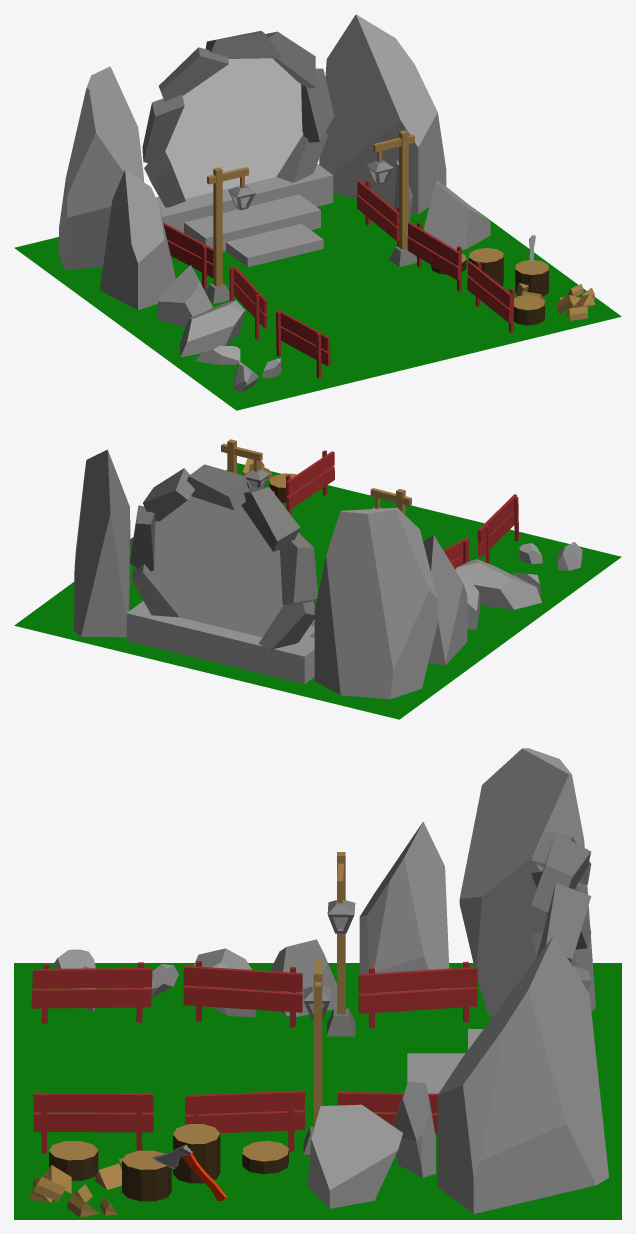
The model's file is Scene_Color_WeilIchEinMädchenBin_SuperNice.fbx.
The picture shows the model from 3 angles, top to bottom: view 1: azimuth 30°, elevation 25°; view 2: azimuth 150°, elevation 25°; view 3: azimuth 270°, elevation 25°; orthographic projection. The views are drawn at different scales.
Parts seen in each view (by area): view 1: Ground, Cube.005, Circle, Cube.004, Fence, Cube.013, 2MiddleStair, 1BigStair, Cube.008, 3LittleStair, Cube.007, Cube.006 (+13 smaller); view 2: Ground, Cube.004, Circle, Cube.005, 1BigStair, Fence, Cube.013, Cube.007, Cube.015, Cube.016, Cube.014, Cube.017 (+9 smaller); view 3: Ground, Cube.005, Fence, Cube.004, Cube.013, Cube.008, Cube.012, Cube.014, Cube.003, HackBaum, HackBaum2, Cube.006 (+11 smaller).
Part boxes in pixels (bbox=[...]): Ground: bbox=[14, 193, 621, 410]; Cube.005: bbox=[319, 14, 446, 214]; Circle: bbox=[165, 58, 303, 198]; Cube.004: bbox=[58, 66, 143, 270]; Fence: bbox=[163, 180, 514, 378]; Cube.013: bbox=[100, 169, 175, 310]; 2MiddleStair: bbox=[184, 194, 320, 251]; 1BigStair: bbox=[156, 164, 333, 232]; Cube.008: bbox=[423, 180, 490, 249]; 3LittleStair: bbox=[226, 223, 323, 267]; Cube.007: bbox=[180, 300, 245, 356]; Cube.006: bbox=[158, 265, 212, 327]; Ground: bbox=[14, 463, 621, 719]; Cube.004: bbox=[314, 507, 437, 699]; Circle: bbox=[151, 496, 283, 637]; Cube.005: bbox=[74, 449, 130, 637]; 1BigStair: bbox=[126, 601, 314, 683]; Fence: bbox=[272, 450, 518, 569]; Cube.013: bbox=[423, 535, 467, 665]; Cube.007: bbox=[455, 559, 541, 609]; Cube.015: bbox=[241, 487, 300, 551]; Cube.016: bbox=[280, 532, 317, 605]; Cube.014: bbox=[187, 464, 248, 510]; Cube.017: bbox=[258, 600, 314, 651]; Ground: bbox=[14, 963, 621, 1219]; Cube.005: bbox=[437, 936, 608, 1213]; Fence: bbox=[31, 960, 477, 1153]; Cube.004: bbox=[459, 748, 595, 1015]; Cube.013: bbox=[359, 821, 449, 993]; Cube.008: bbox=[307, 1104, 402, 1208]; Cube.012: bbox=[394, 1080, 435, 1177]; Cube.014: bbox=[531, 832, 591, 912]; Cube.003: bbox=[537, 883, 591, 962]; HackBaum: bbox=[122, 1150, 171, 1201]; HackBaum2: bbox=[173, 1124, 220, 1183]; Cube.006: bbox=[263, 939, 345, 1016].
Bounding box in the file's own units: 400 × 181 × 400.
